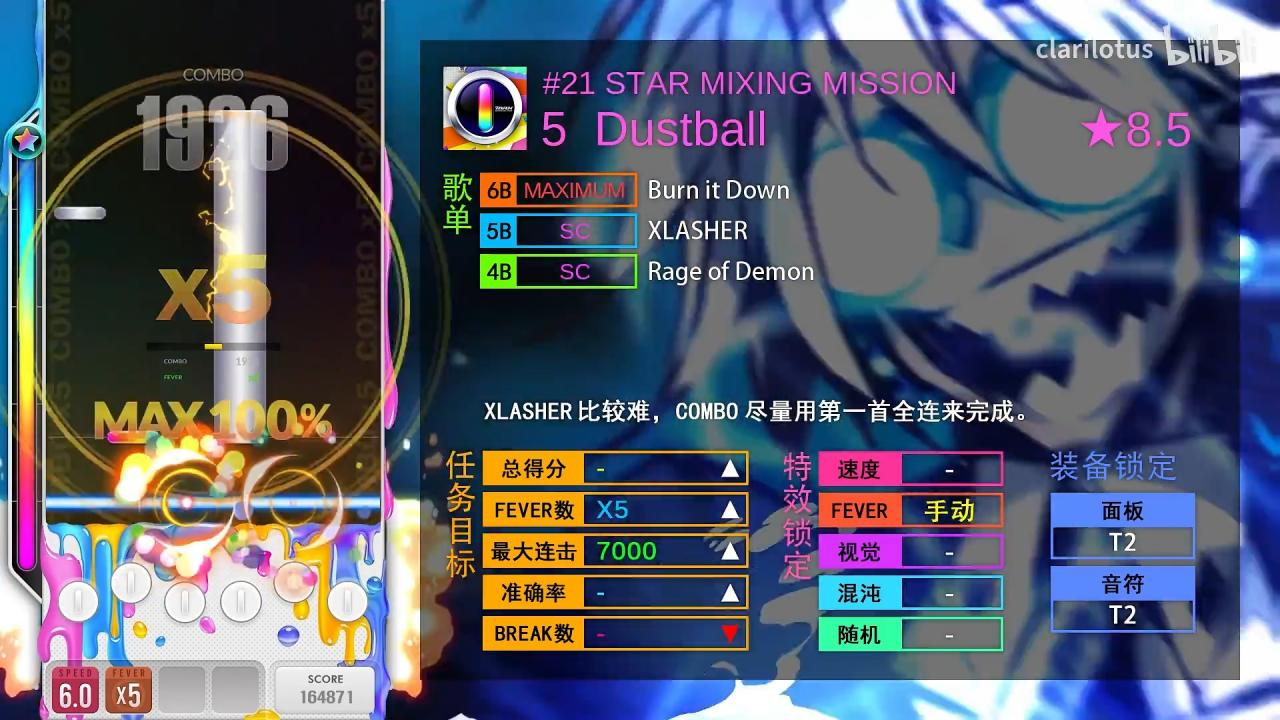hold-end: (214, 109, 266, 122)
hold-start: (214, 432, 267, 442)
note: (55, 206, 106, 220), (107, 431, 160, 444)
